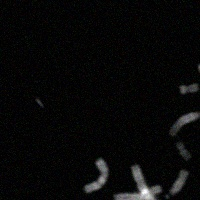chromosome: (132, 163, 168, 200), (82, 159, 109, 195), (167, 111, 200, 138), (114, 184, 161, 200), (167, 170, 191, 196), (175, 139, 191, 163), (180, 83, 199, 95), (199, 63, 200, 100)
